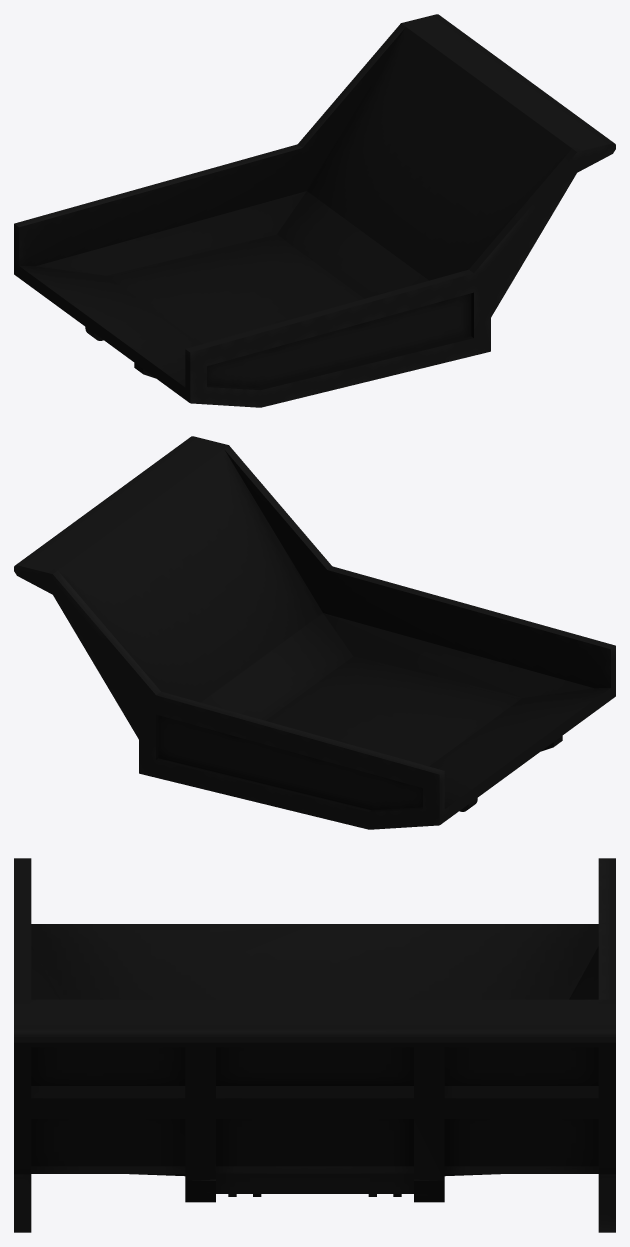
Rendered from mst110cr-vessel.dae.
3 views of the same model, one above another, from view 1: azimuth 30°, elevation 25°; view 2: azimuth 150°, elevation 25°; view 3: azimuth 270°, elevation 25° (orthographic). The views are drawn at different scales.
Visible parts, largest first — view 1: mst110cr-vessel; view 2: mst110cr-vessel; view 3: mst110cr-vessel.
Part boxes in pixels (x1,y1,x2,y2): mst110cr-vessel: (14, 14, 615, 407); mst110cr-vessel: (14, 436, 615, 829); mst110cr-vessel: (14, 858, 615, 1232).
Size of the model in its own units: 4.07 by 2.92 by 1.71.
1 material, 1 textured.
